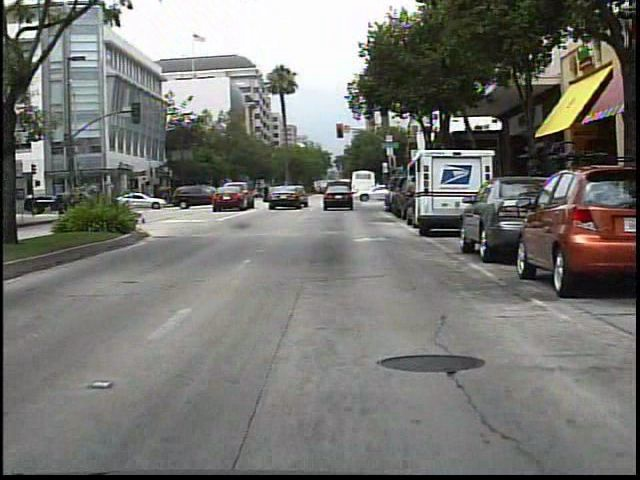person: (516, 149, 548, 235), (267, 182, 268, 206)
